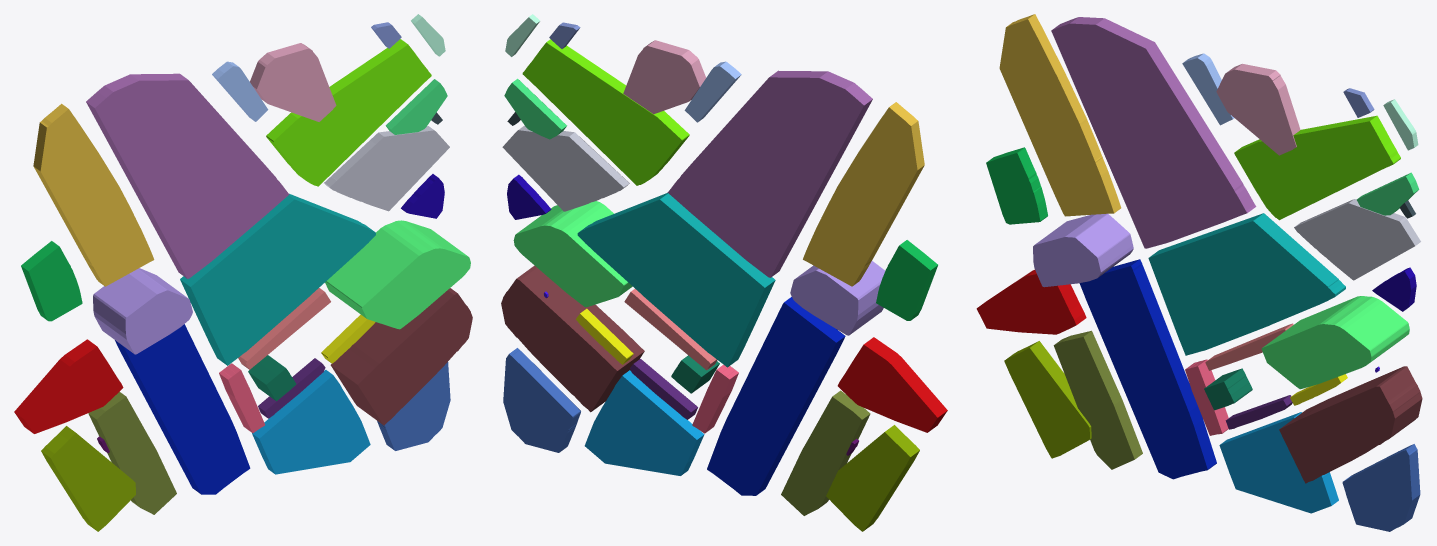
3 renders of one model, left to right at view 1: azimuth 30°, elevation 25°; view 2: azimuth 150°, elevation 25°; view 3: azimuth 330°, elevation 25°, orthographic.
Parts seen in each view (by area): view 1: Block 9, Block 2, Block 10, Block 0, Block 25, Block 17, Block 21, Block 15, Block 26, Block 7, Block 4, Block 5 (+13 smaller); view 2: Block 9, Block 2, Block 0, Block 10, Block 25, Block 17, Block 15, Block 21, Block 26, Block 4, Block 5, Block 1 (+13 smaller); view 3: Block 9, Block 2, Block 0, Block 10, Block 25, Block 17, Block 21, Block 15, Block 1, Block 26, Block 5, Block 7 (+14 smaller).
Boxes of the visible parts, box(x1,y1,x2,y2) form: Block 9: box(86, 73, 289, 278); Block 2: box(180, 193, 375, 365); Block 10: box(33, 103, 154, 286); Block 0: box(115, 324, 250, 494); Block 25: box(266, 39, 431, 186); Block 17: box(330, 288, 472, 425); Block 21: box(325, 220, 470, 329); Block 15: box(252, 370, 370, 474); Block 26: box(324, 126, 449, 211); Block 7: box(93, 268, 192, 354); Block 4: box(14, 339, 123, 433); Block 5: box(41, 426, 135, 531); Block 9: box(667, 70, 872, 277); Block 2: box(577, 193, 775, 367); Block 0: box(707, 297, 845, 495); Block 10: box(803, 102, 924, 286); Block 25: box(522, 39, 689, 185); Block 17: box(501, 265, 644, 412); Block 15: box(584, 370, 704, 475); Block 21: box(513, 201, 632, 307); Block 26: box(502, 125, 629, 211); Block 4: box(837, 337, 947, 432); Block 5: box(826, 425, 919, 531); Block 1: box(781, 390, 870, 515); Block 9: box(1051, 17, 1256, 248); Block 2: box(1148, 213, 1345, 355); Block 0: box(1079, 259, 1216, 479); Block 10: box(999, 14, 1121, 216); Block 25: box(1234, 115, 1400, 220); Block 17: box(1279, 366, 1422, 483); Block 21: box(1261, 296, 1409, 389); Block 15: box(1219, 412, 1338, 513); Block 1: box(1053, 330, 1142, 469); Block 26: box(1294, 199, 1420, 280); Block 5: box(1004, 341, 1091, 458); Block 7: box(1033, 213, 1133, 287).
Size of the model in its own units: 545 by 530 by 87.77.
